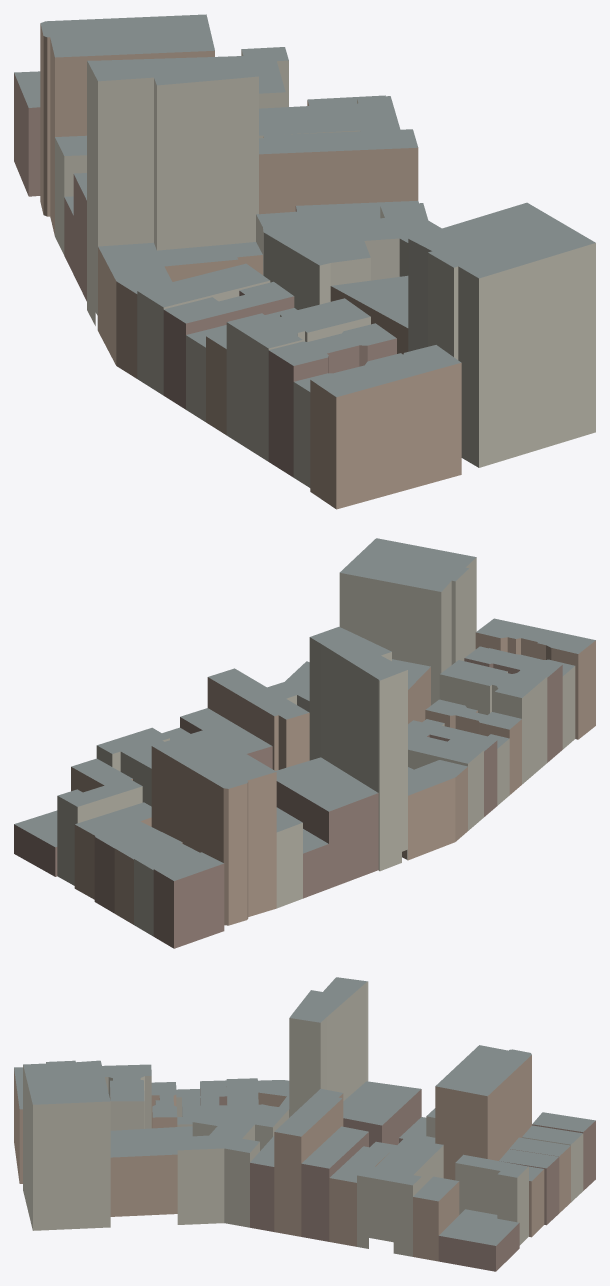
3 views of the same model, one above another, from view 1: azimuth 30°, elevation 25°; view 2: azimuth 150°, elevation 25°; view 3: azimuth 270°, elevation 25° (orthographic). The views are drawn at different scales.
Parts seen in each view (by area): view 1: C5; view 2: C5; view 3: C5.
Boxes of the visible parts, x1,y1,x2,y2 form: C5: (14, 14, 595, 509); C5: (14, 538, 595, 948); C5: (14, 977, 595, 1271).
Size of the model in its own units: 81.86 by 46.75 by 148.
